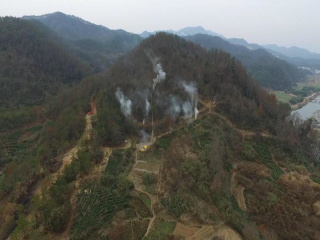smoke: (114, 50, 200, 143)
